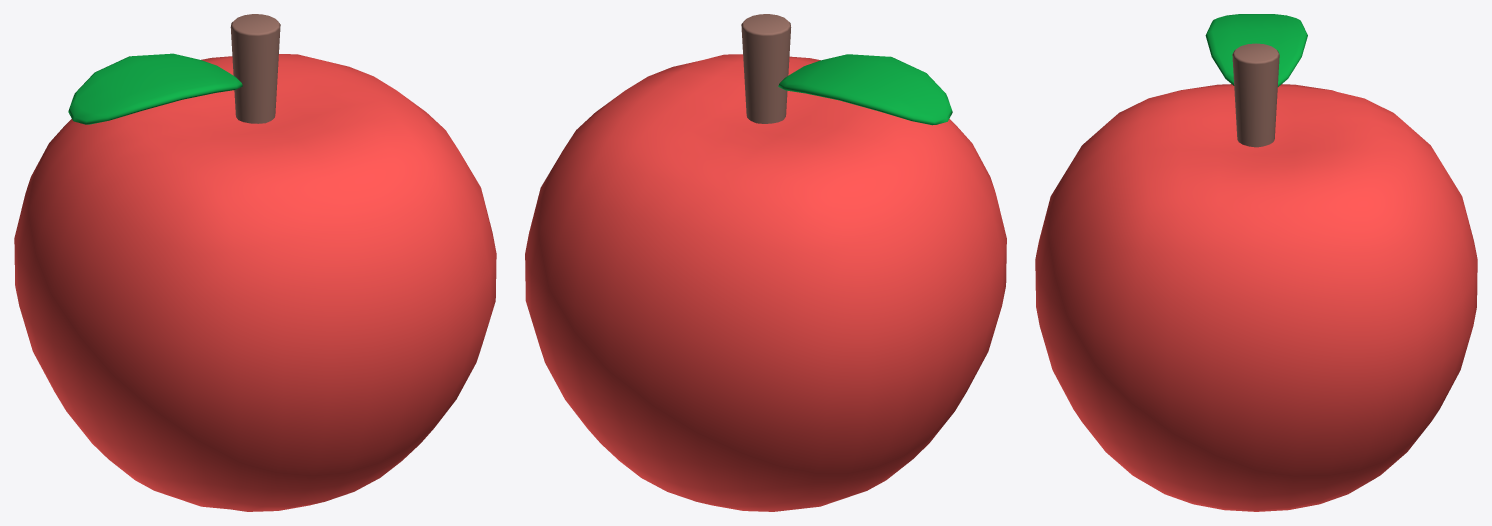
Rendered from apple.glb.
The picture shows the model from 3 angles, left to right: view 1: azimuth 30°, elevation 25°; view 2: azimuth 150°, elevation 25°; view 3: azimuth 270°, elevation 25°; orthographic projection. The views are drawn at different scales.
Visible parts, largest first — view 1: Apple_Red; view 2: Apple_Red; view 3: Apple_Red.
Boxes of the visible parts, x1,y1,x2,y2 form: Apple_Red: [14, 14, 496, 511]; Apple_Red: [525, 14, 1006, 511]; Apple_Red: [1035, 14, 1477, 511].
Size of the model in its own units: 0.1345 by 0.1427 by 0.1345.
Materials: 1 (1 with a texture image).
